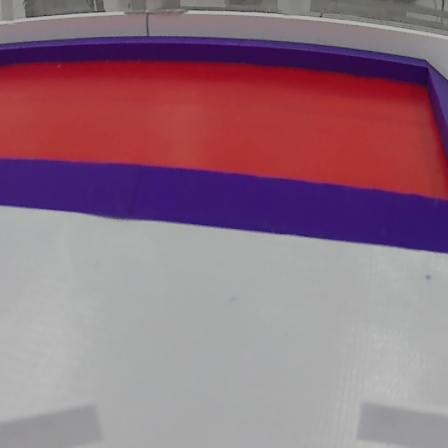red_aim: (1, 35, 448, 257)
